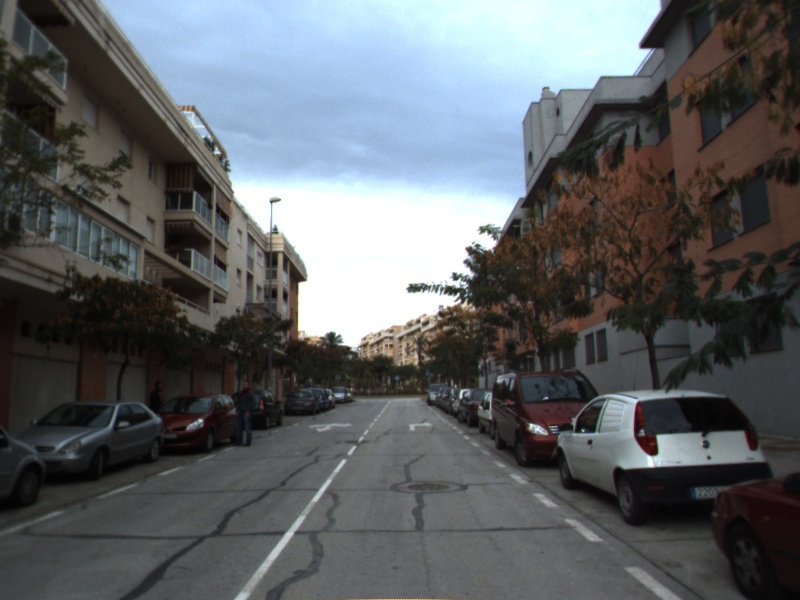RIGHT: (407, 419, 435, 433)
